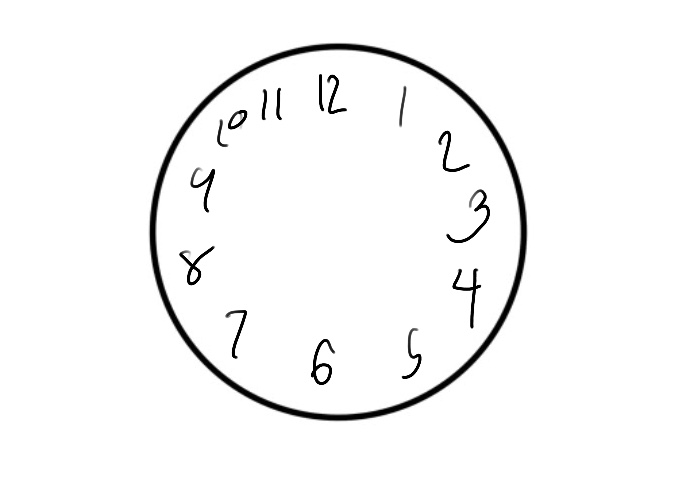eight: (179, 242, 217, 290)
eleven: (257, 79, 286, 122)
five: (400, 318, 427, 384)
four: (445, 265, 486, 325)
nine: (187, 164, 223, 218)
one: (390, 81, 412, 124)
seven: (219, 304, 252, 361)
six: (311, 330, 339, 388)
ten: (212, 102, 251, 149)
three: (444, 182, 495, 249)
twelve: (316, 70, 352, 116)
two: (432, 123, 473, 176)
